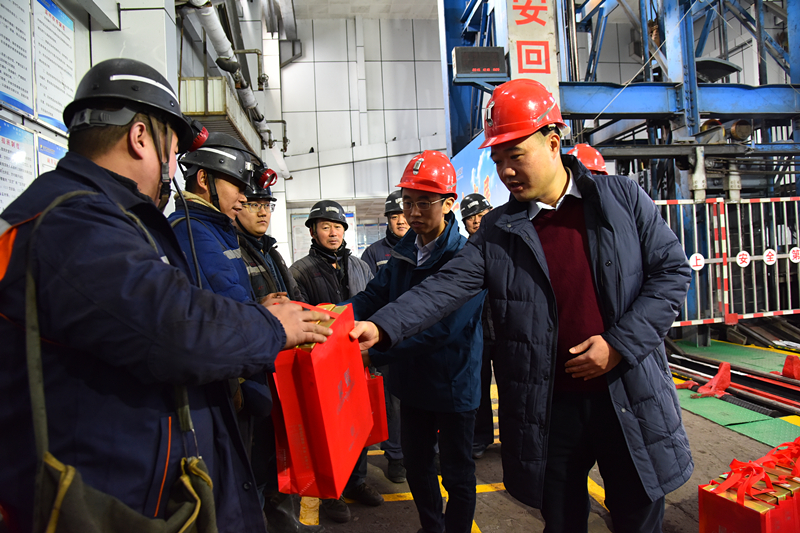helmet: (474, 83, 575, 205), (395, 148, 456, 239)
